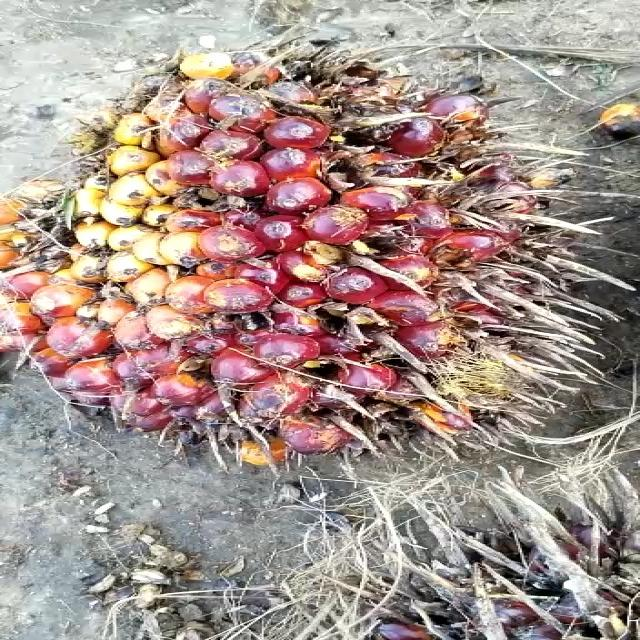palm oil: (0, 36, 582, 487)
